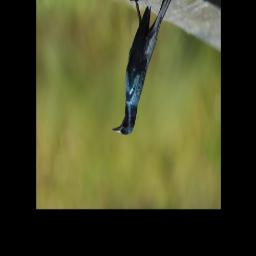Crow: (112, 0, 176, 137)
